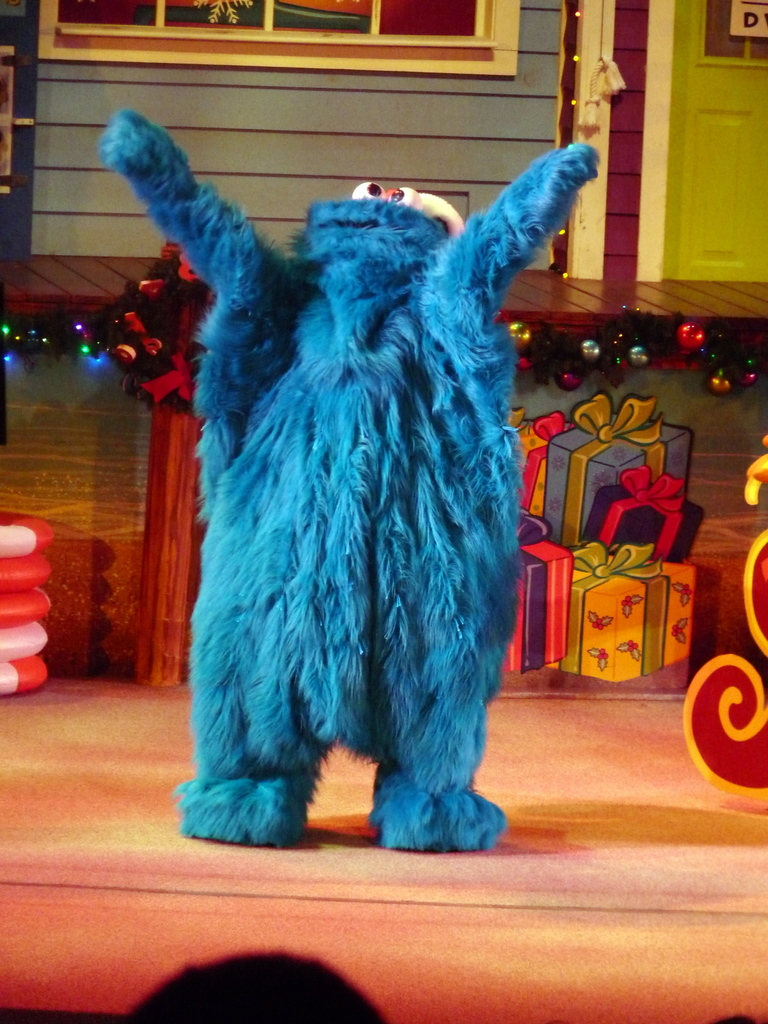Animal: (103, 121, 591, 861)
